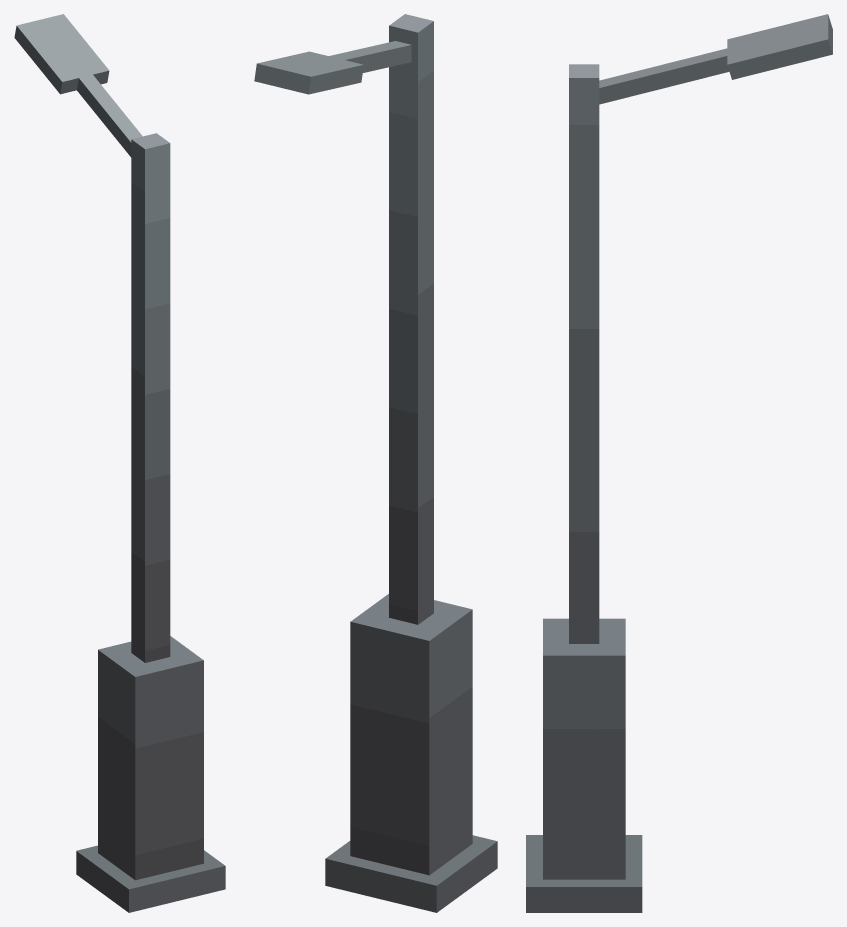
The model's file is lamp.glb.
3 renders of one model, left to right at view 1: azimuth 30°, elevation 25°; view 2: azimuth 150°, elevation 25°; view 3: azimuth 270°, elevation 25°, orthographic. The views are drawn at different scales.
Visible parts, largest first — view 1: lamp; view 2: lamp; view 3: lamp.
Part boxes in pixels (x1,y1,x2,y2): lamp: (14, 14, 225, 912); lamp: (254, 14, 497, 912); lamp: (526, 14, 832, 912).
Size of the model in its own units: 0.9716 by 7.51 by 2.43.
Materials: 1 (1 with a texture image).
